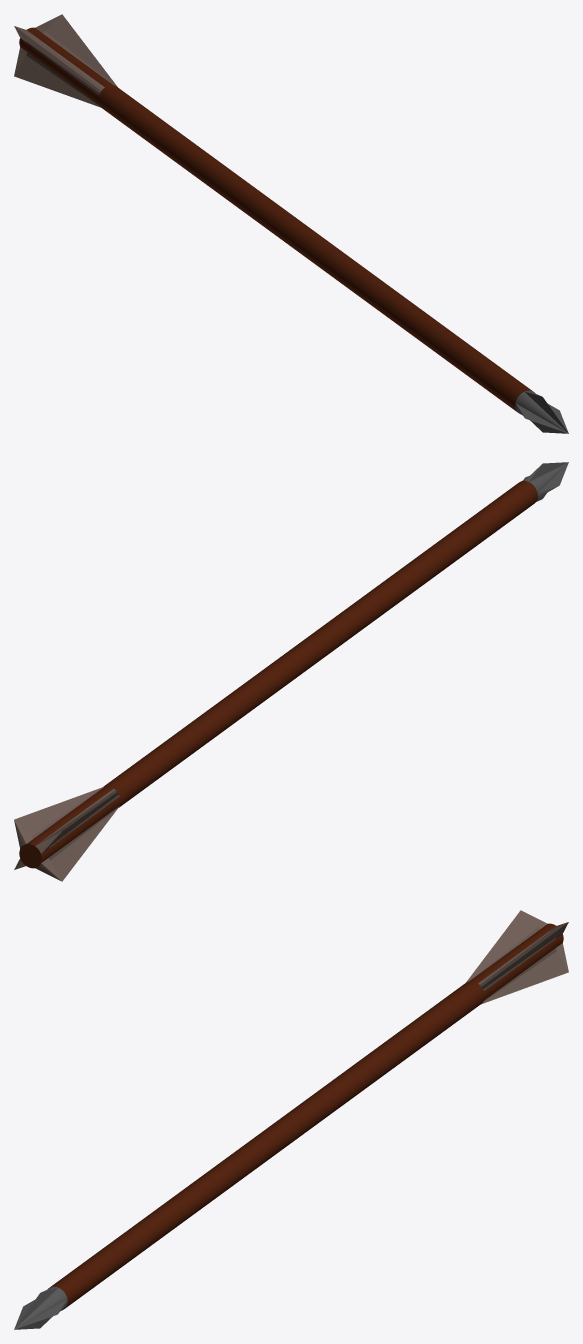
The model's file is Arrow.fbx.
3 renders of one model, top to bottom at view 1: azimuth 30°, elevation 25°; view 2: azimuth 150°, elevation 25°; view 3: azimuth 330°, elevation 25°, orthographic.
Parts seen in each view (by area): view 1: Arrow; view 2: Arrow; view 3: Arrow.
Part boxes in pixels (bbox=[...]): Arrow: bbox=[14, 14, 568, 433]; Arrow: bbox=[14, 462, 568, 881]; Arrow: bbox=[14, 910, 568, 1329].
Bounding box in the file's own units: 53.03 × 53.03 × 1025.
